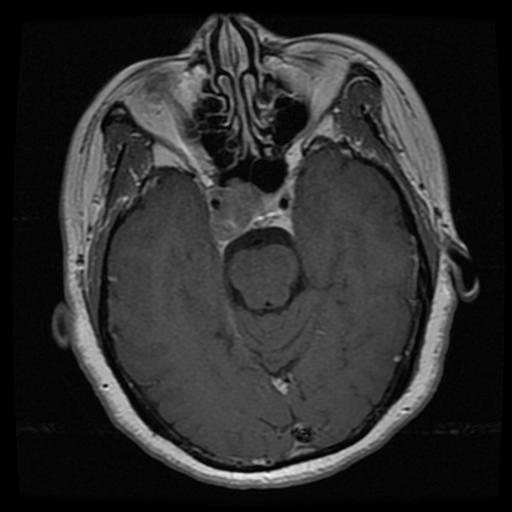Pituirity_tumour: (213, 183, 285, 239)
